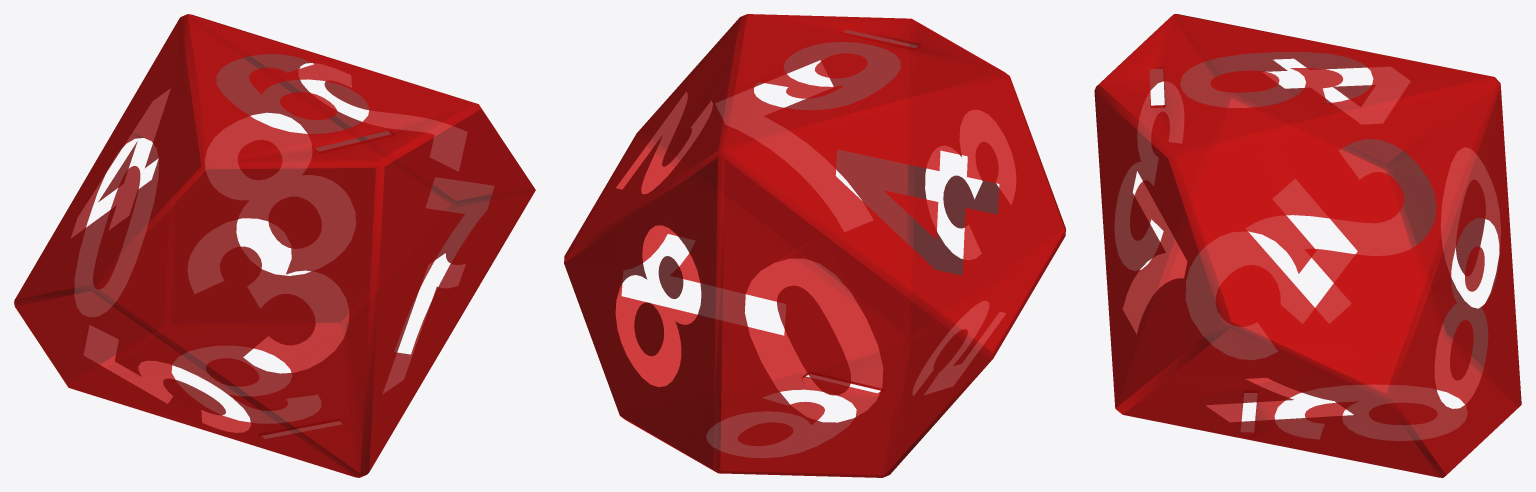
Rendered from d10_lowpoly.fbx.
The picture shows the model from 3 angles, left to right: view 1: azimuth 30°, elevation 25°; view 2: azimuth 150°, elevation 25°; view 3: azimuth 270°, elevation 25°; orthographic projection. The views are drawn at different scales.
Visible parts, largest first — view 1: 10_Sided; view 2: 10_Sided; view 3: 10_Sided.
Part boxes in pixels (left/top/right/bottom): 10_Sided: left=14, top=14, right=535, bottom=477; 10_Sided: left=564, top=14, right=1065, bottom=477; 10_Sided: left=1094, top=14, right=1521, bottom=477.
Bounding box in the file's own units: 11.86 × 8.51 × 9.65.
